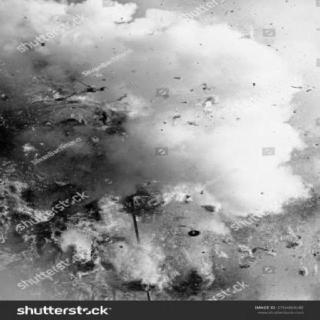Fire: (3, 1, 320, 303)
